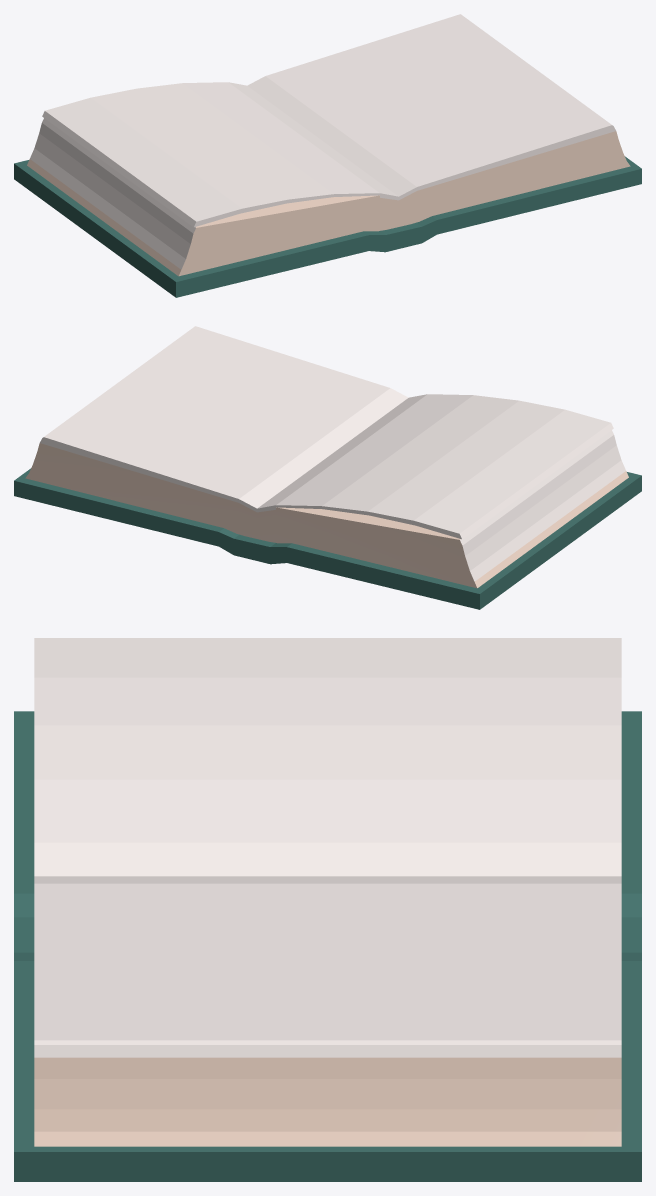
The model's file is OpenBook.fbx.
3 renders of one model, top to bottom at view 1: azimuth 30°, elevation 25°; view 2: azimuth 150°, elevation 25°; view 3: azimuth 270°, elevation 25°, orthographic. The views are drawn at different scales.
Parts seen in each view (by area): view 1: OpenBook; view 2: OpenBook; view 3: OpenBook.
Boxes of the visible parts, x1,y1,x2,y2 form: OpenBook: (14,14,641,297); OpenBook: (14,326,641,609); OpenBook: (14,638,641,1181).
Size of the model in its own units: 55.21 by 8.32 by 33.28.
Materials: 1 (1 with a texture image).
